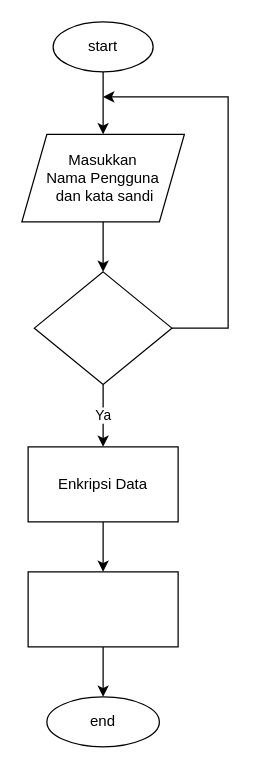
This 260x769 diagram has some shape labels left out. Each missing label, with the centre of its shape:
Simpan Enkripsi Data: (x=102, y=609)
Verifikasi Pengguna ?: (x=102, y=327)
